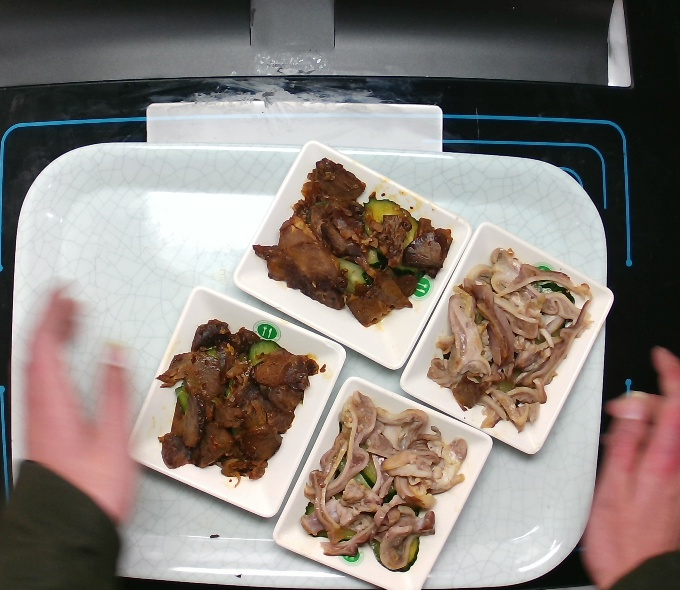wcq-JiangNiuRou: (245, 152, 455, 333), (151, 311, 331, 497)
wcq-ZhuDu: (423, 244, 598, 441), (298, 388, 471, 574)
